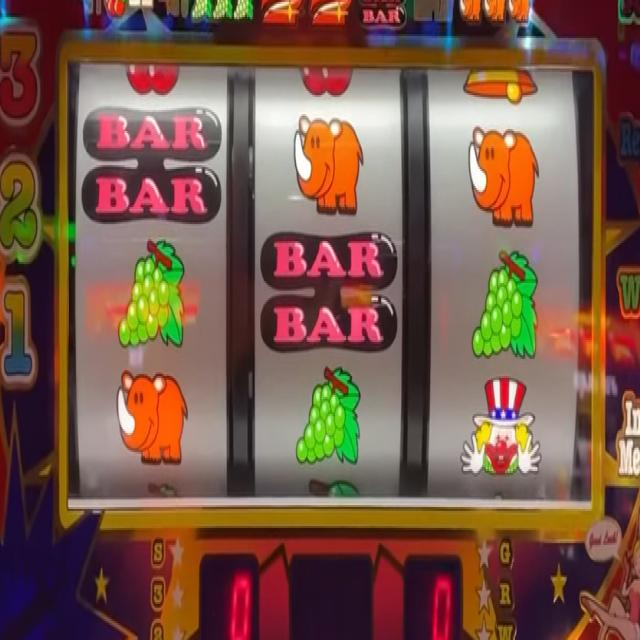bar: (259, 230, 398, 358), (80, 105, 222, 223), (358, 0, 407, 32)
bell: (463, 68, 538, 104)
cherry: (300, 57, 354, 99), (124, 61, 181, 99), (104, 0, 128, 19)
clown: (459, 375, 542, 483)
display: (66, 55, 595, 506)
elephant: (467, 124, 540, 232), (292, 110, 364, 218), (116, 368, 189, 466), (508, 0, 531, 24), (482, 0, 507, 21), (458, 0, 481, 21)
grape: (471, 246, 540, 368), (117, 234, 186, 354), (293, 366, 362, 466), (189, 0, 212, 23), (234, 0, 255, 20), (213, 0, 233, 19)
z: (259, 0, 304, 29), (309, 1, 352, 30)
